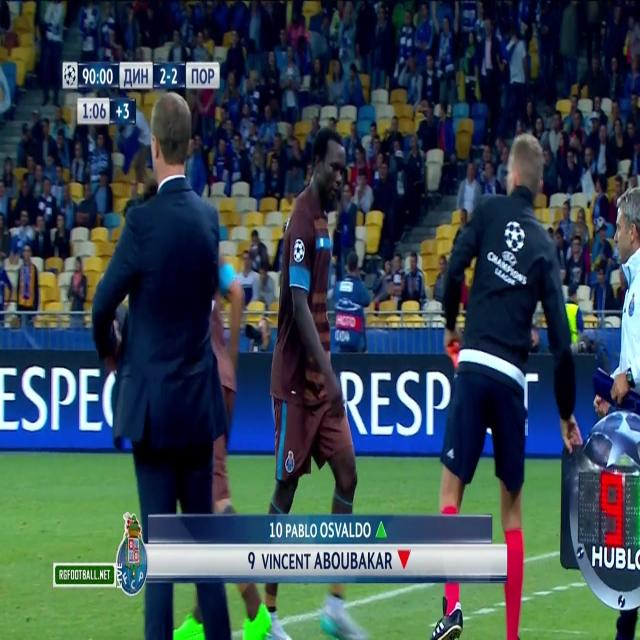Player: (266, 127, 362, 637)
